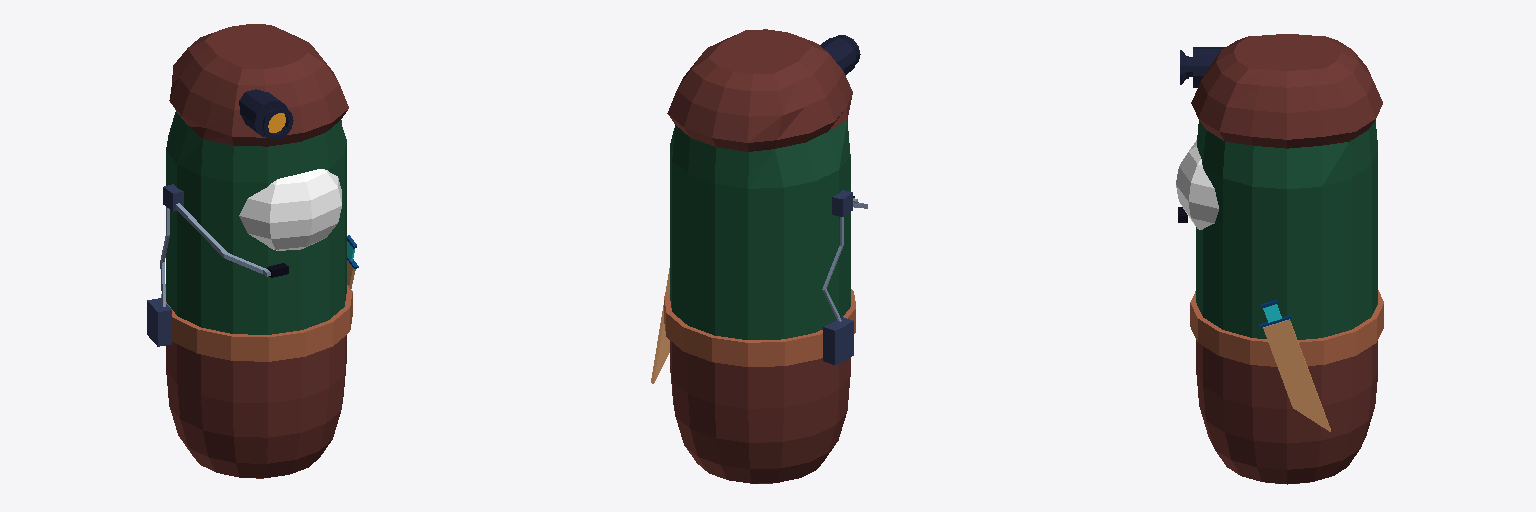
3 views of the same model, side by side, from view 1: azimuth 30°, elevation 25°; view 2: azimuth 150°, elevation 25°; view 3: azimuth 270°, elevation 25° (orthographic).
Parts seen in each view (by area): view 1: GuardModel; view 2: GuardModel; view 3: GuardModel.
Part boxes in pixels (left/top/right/bottom): GuardModel: left=147, top=24, right=358, bottom=478; GuardModel: left=651, top=29, right=867, bottom=483; GuardModel: left=1176, top=34, right=1383, bottom=484.
Size of the model in its own units: 0.5617 by 1.2 by 0.5499.
Materials: 1 (1 with a texture image).